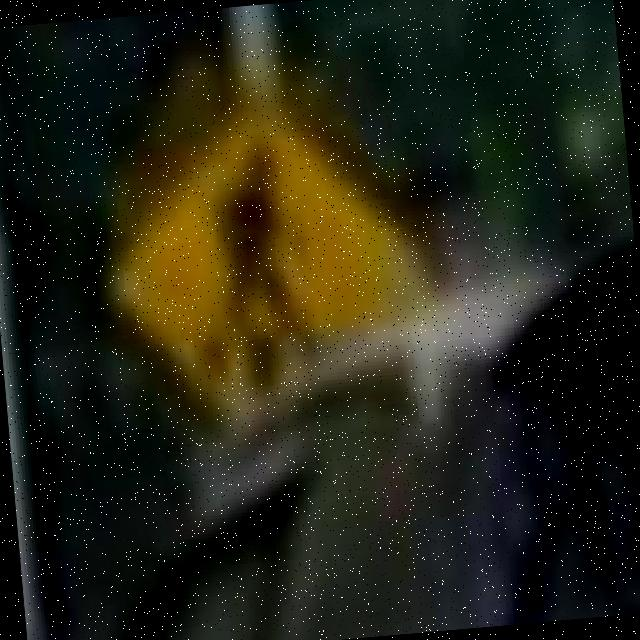Przejscie dla pieszych: (104, 105, 344, 383)
